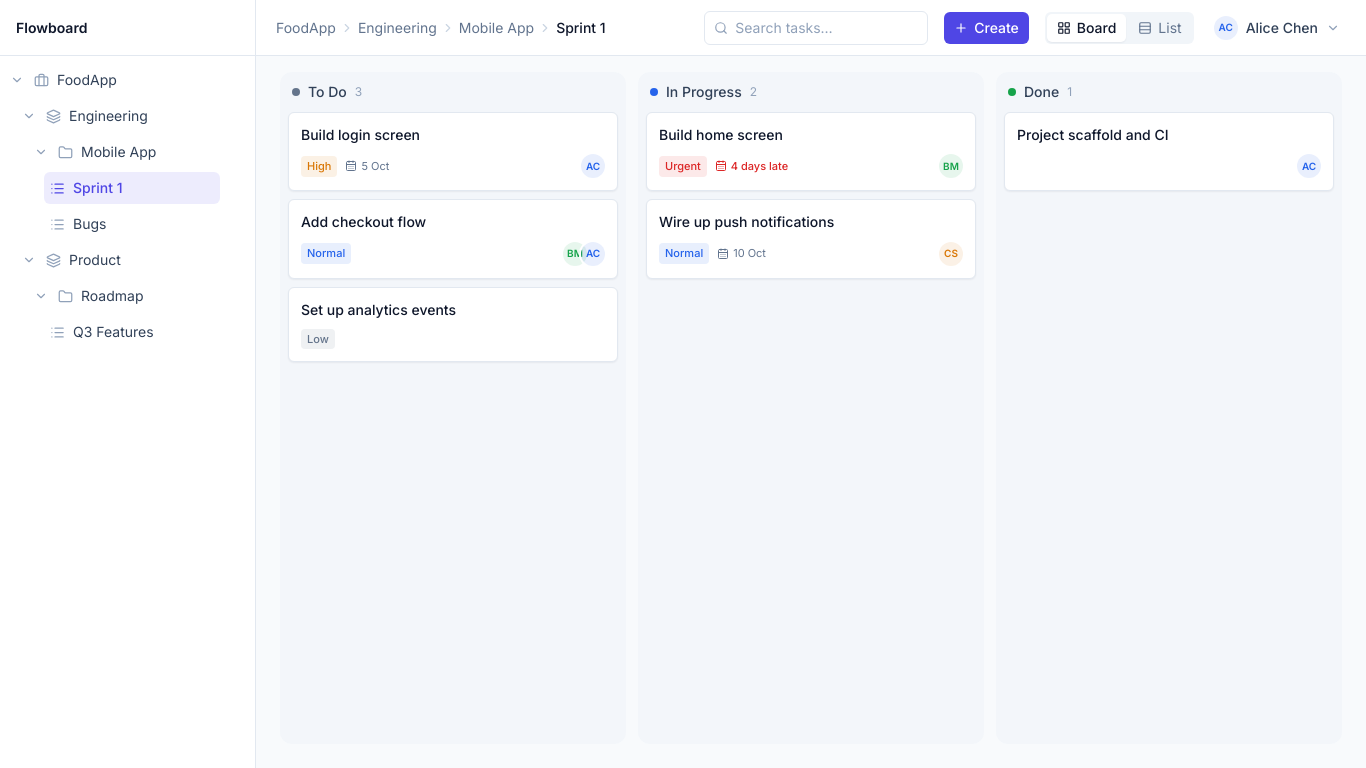
Scenario: ViewToggle › switches to the table and back
The image size is (1366, 768).
What coordinates should you click on to do the following:
click the tab "List"
I would click on:
 (1160, 28)
Its box is [1128,14,1192,42].
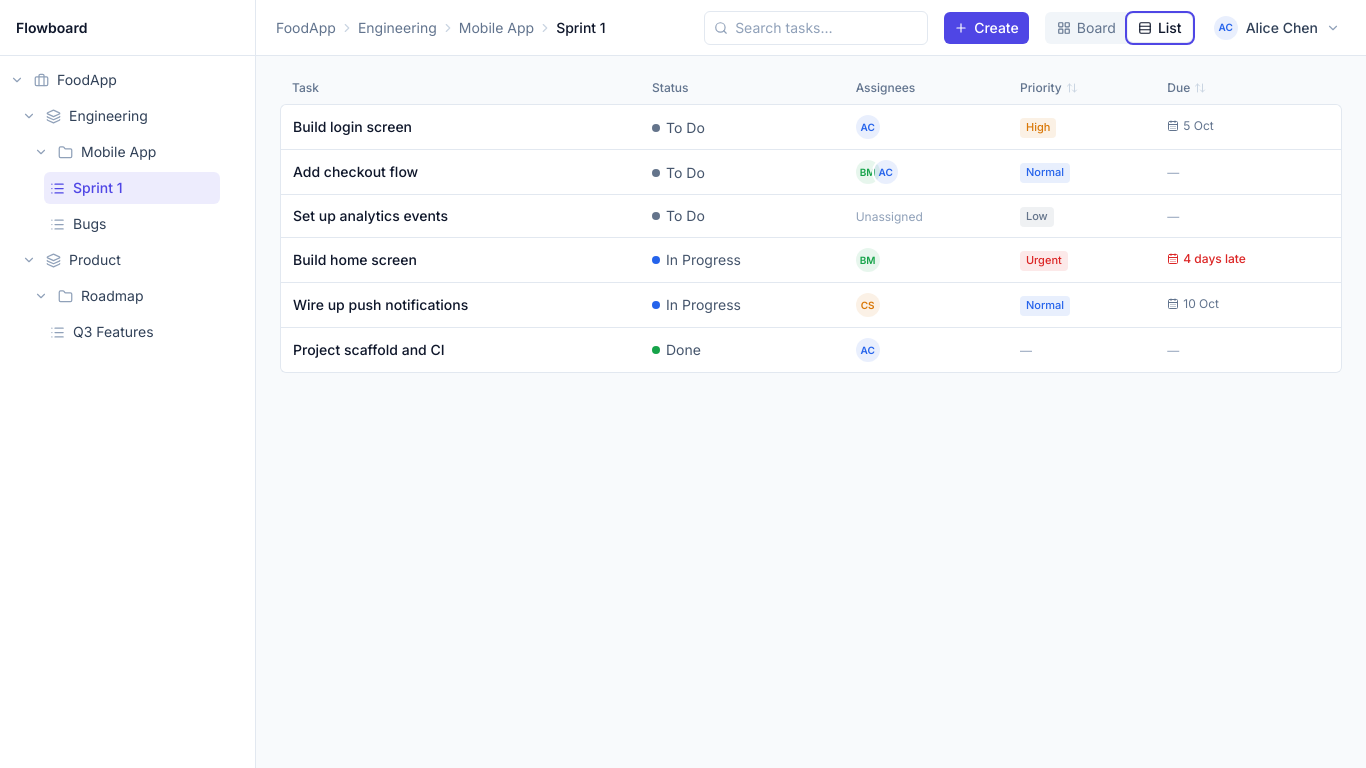
Now the table is shown, box [280,72,1342,373]
What coordinates should you click on to do the following:
click the tab "Board"
I would click on:
 (1086, 28)
Its box is [1047,14,1126,42].
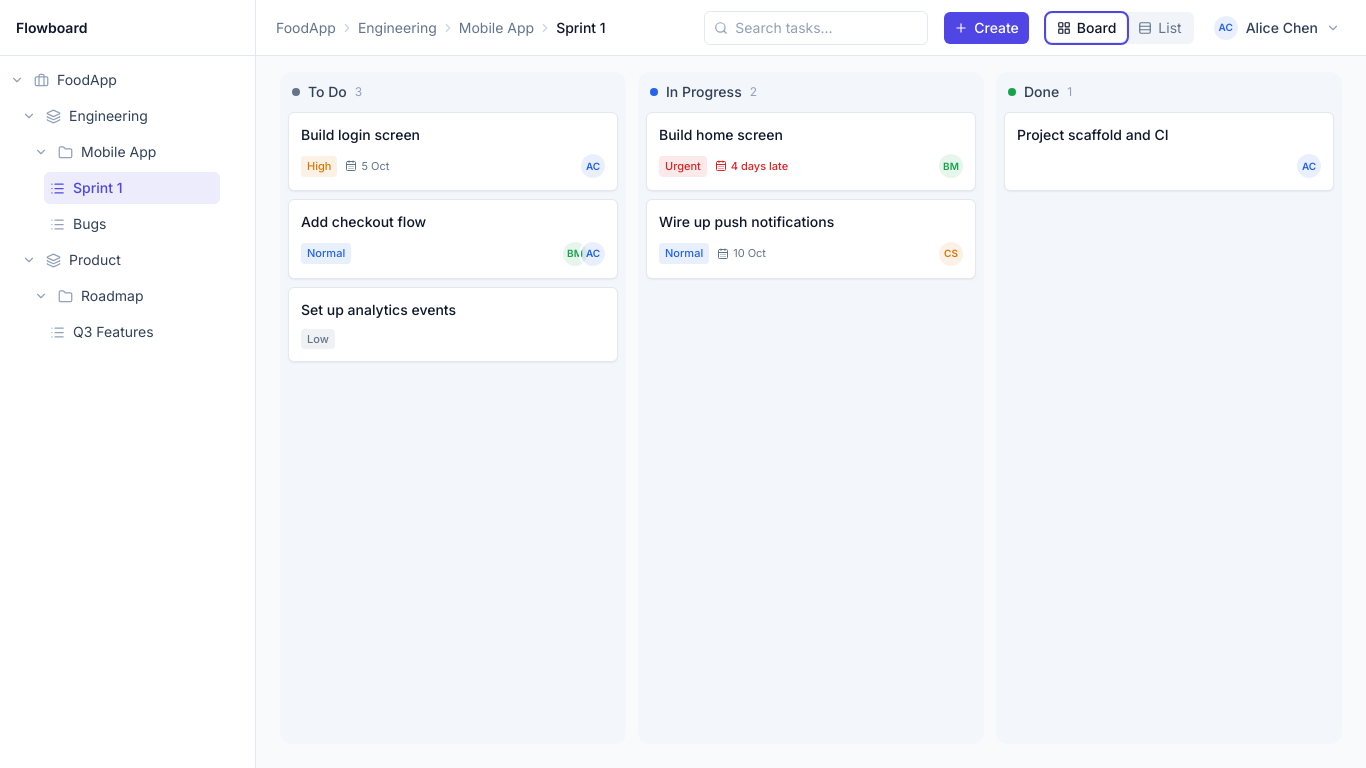
Now the table is gone
Now the element "To Do" is shown, box [280,72,626,744]
